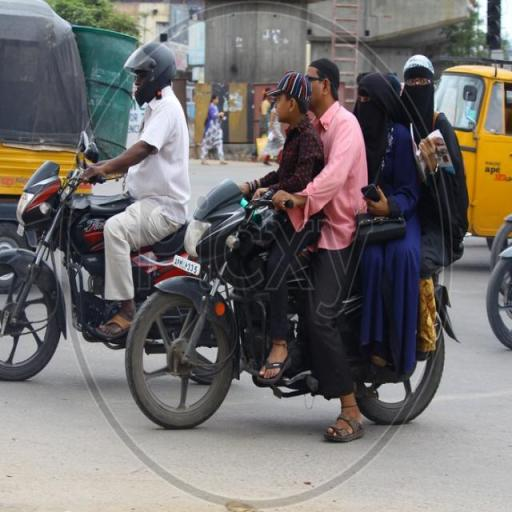tripple riding: (248, 53, 468, 241)
